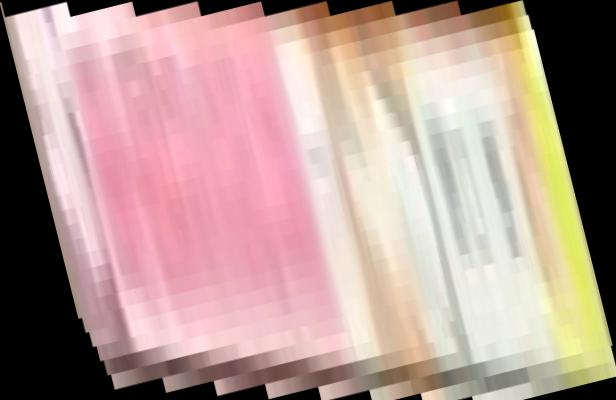flat: (1, 1, 616, 400)
